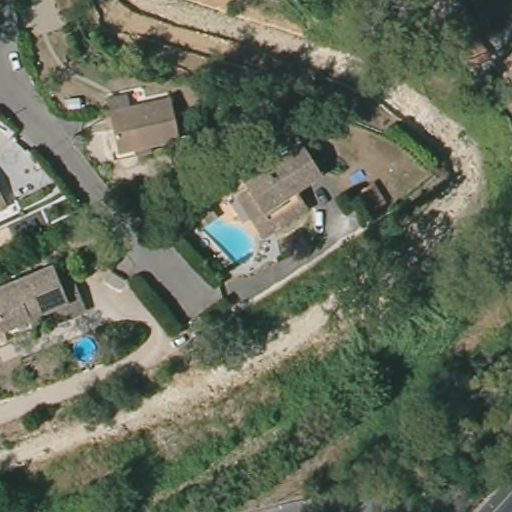pool: (202, 216, 262, 266), (68, 332, 102, 365)
